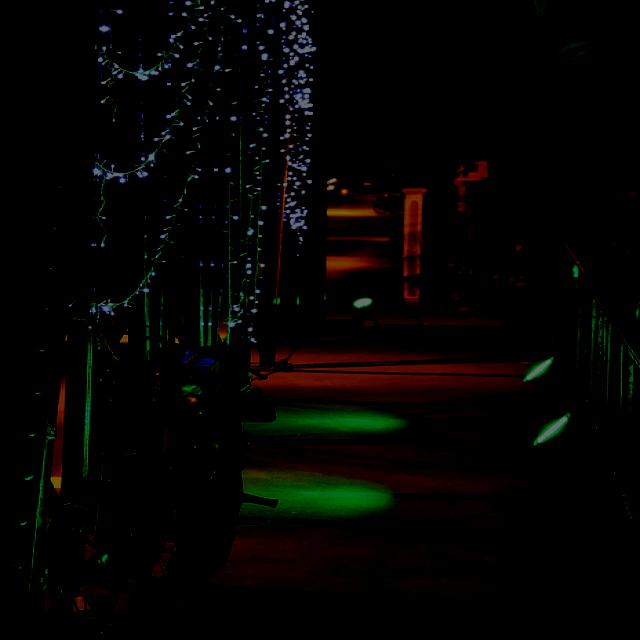Motorbike: (46, 297, 370, 640)
